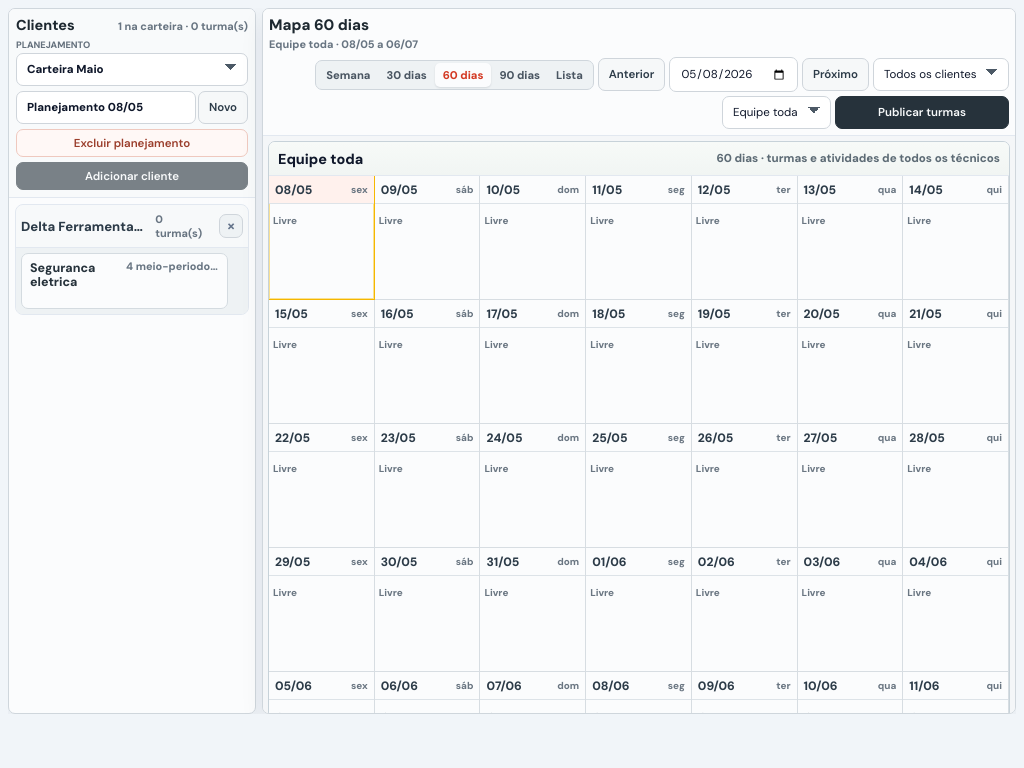
Test: PlanningPage › opens module configuration in a dialog over the client rail
Click the button "Seguranca eletrica 4 meio-periodos sugeridos" at (124, 281), box [22,254,227,308]
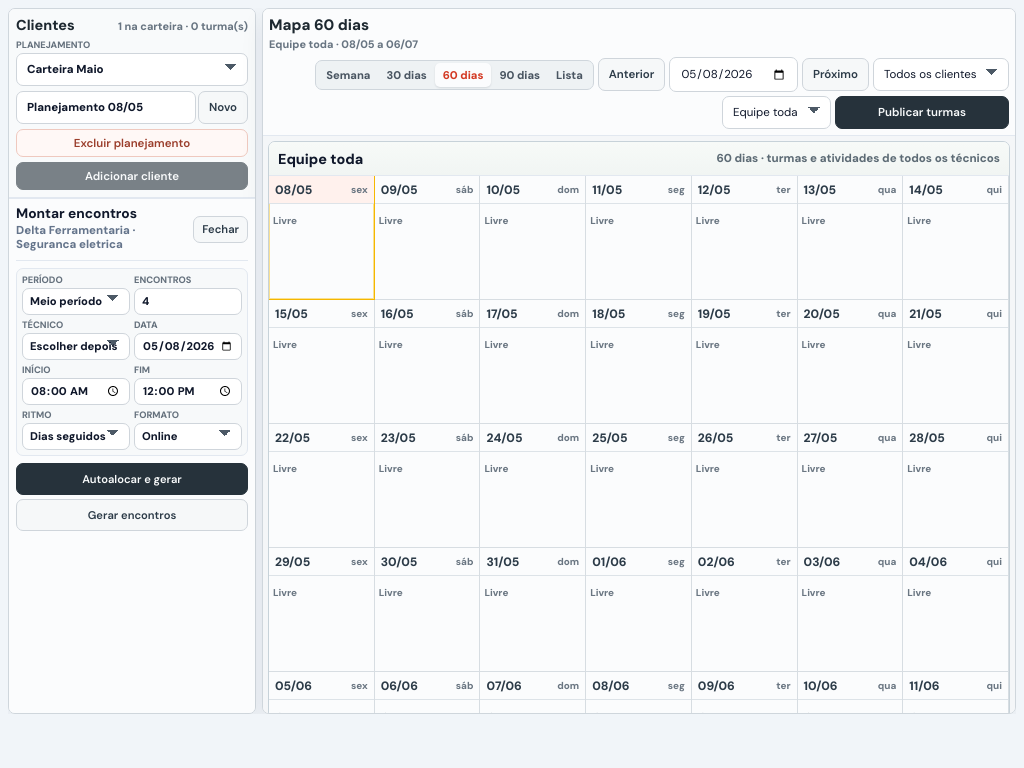
Expected: the dialog named "Configurar módulo" shows "Delta Ferramentaria", [16,223,130,238]
Expected: the dialog named "Configurar módulo" shows "Seguranca eletrica", [16,237,123,252]
Expected: the dropdown labelled "Período" is shown, [22,288,130,315]
